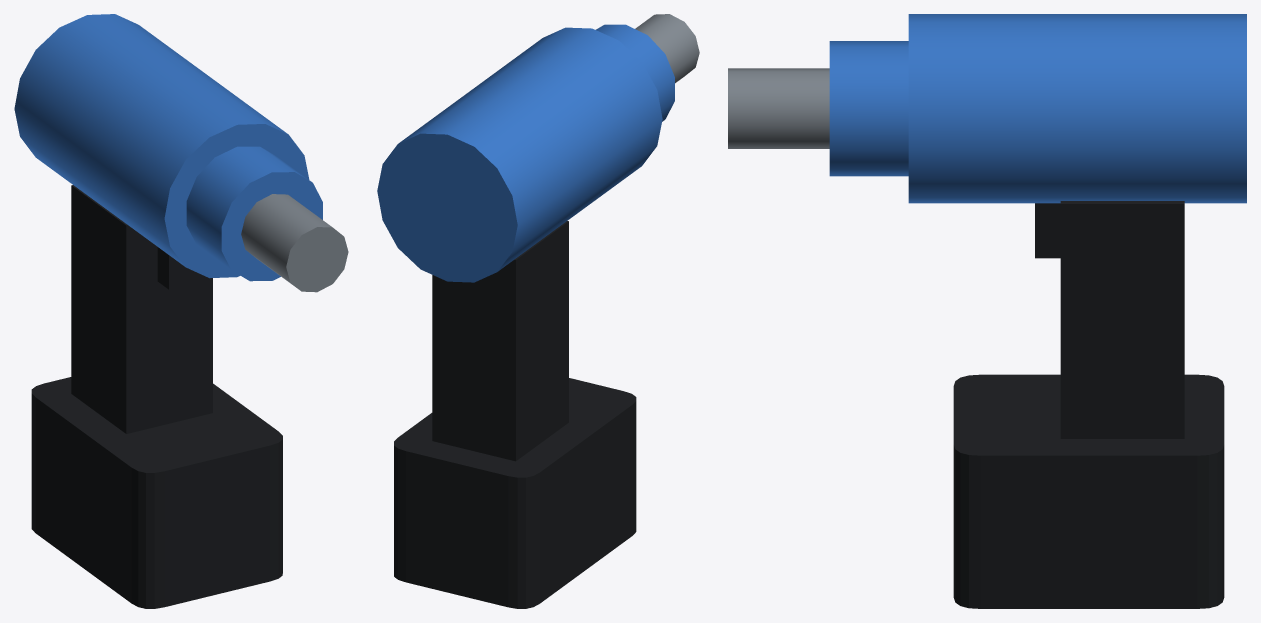
File: toolkit--impactWrench.glb
3 views of the same model, side by side, from view 1: azimuth 30°, elevation 25°; view 2: azimuth 150°, elevation 25°; view 3: azimuth 270°, elevation 25° (orthographic). The views are drawn at different scales.
Visible parts, largest first — view 1: impactWrench:shell, trigger; view 2: impactWrench:shell; view 3: impactWrench:shell, trigger.
Boxes of the visible parts, x1,y1,x2,y2 form: impactWrench:shell: (14, 14, 348, 608); trigger: (157, 247, 193, 289); impactWrench:shell: (377, 14, 699, 608); impactWrench:shell: (728, 14, 1246, 608); trigger: (1035, 203, 1060, 258).
Bounding box in the file's own units: 0.085 × 0.267 × 0.23.
